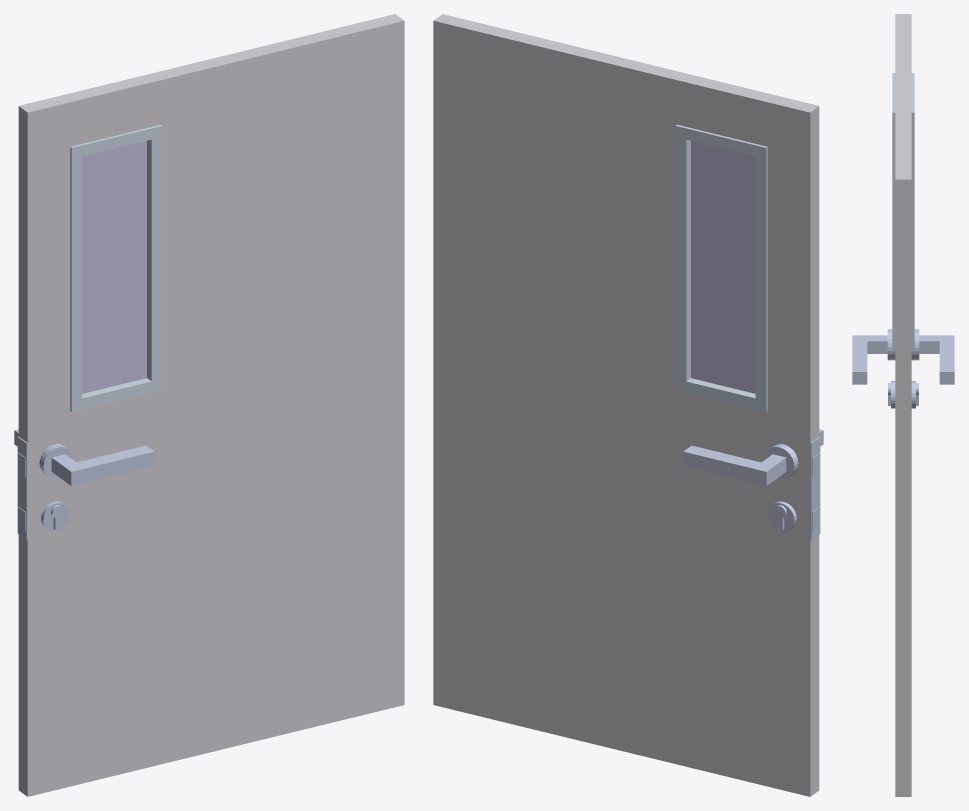
The picture shows the model from 3 angles, left to right: view 1: azimuth 30°, elevation 25°; view 2: azimuth 150°, elevation 25°; view 3: azimuth 270°, elevation 25°; orthographic projection. The views are drawn at different scales.
Visible parts, largest first — view 1: Door; view 2: Door; view 3: Door.
Boxes of the visible parts, left/top/right/bottom form: Door: left=14, top=14, right=404, bottom=796; Door: left=433, top=14, right=823, bottom=796; Door: left=852, top=14, right=954, bottom=796.
Size of the model in its own units: 712 by 1230 by 185.
